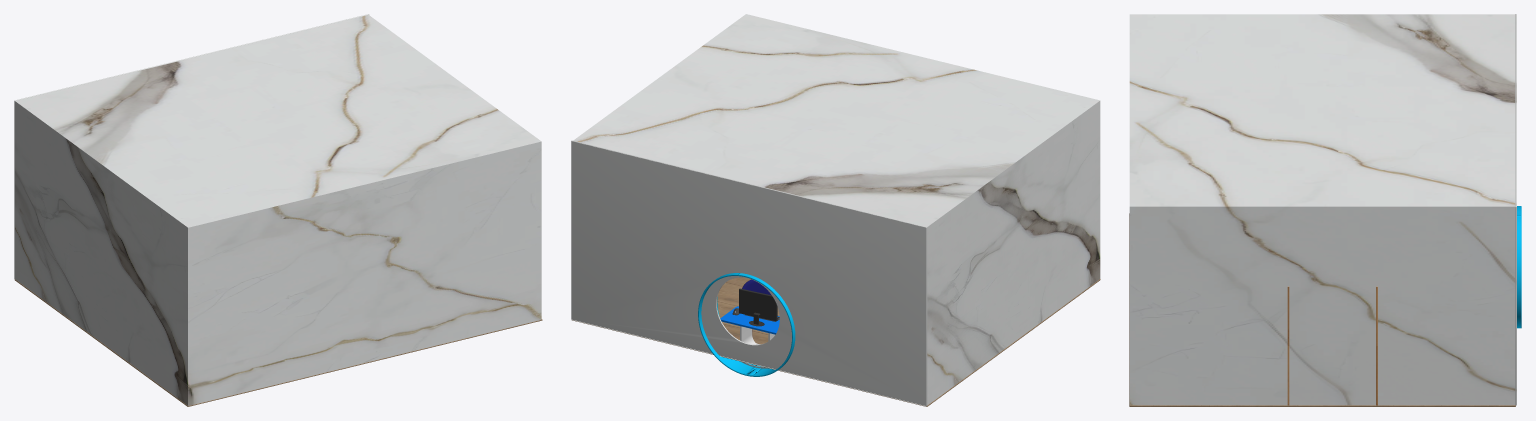
The model's file is room-space-final.glb.
The picture shows the model from 3 angles, left to right: view 1: azimuth 30°, elevation 25°; view 2: azimuth 150°, elevation 25°; view 3: azimuth 270°, elevation 25°; orthographic projection. The views are drawn at different scales.
Visible parts, largest first — view 1: Cube.002, Cube.001, Boolean; view 2: Cube.002, Boolean, Cube.001, Cylinder.001, Cube.004, Rectangle; view 3: Cube.002, Cube.001, Boolean, Cylinder.001, wooden_display_shelves_01.
Boxes of the visible parts, <box> form: Cube.002: <box>15,15,541,405</box>; Cube.001: <box>14,279,542,406</box>; Boolean: <box>14,14,369,278</box>; Cube.002: <box>572,14,1100,406</box>; Boolean: <box>571,140,927,405</box>; Cube.001: <box>572,277,1100,406</box>; Cylinder.001: <box>698,273,795,376</box>; Cube.004: <box>739,288,777,321</box>; Rectangle: <box>720,306,779,334</box>; Cube.002: <box>1129,14,1516,405</box>; Cube.001: <box>1129,213,1515,406</box>; Boolean: <box>1515,14,1516,405</box>; Cylinder.001: <box>1517,206,1521,328</box>; wooden_display_shelves_01: <box>1287,286,1377,405</box>.
Bounding box in the file's own units: 58.87 × 30.13 × 50.54.
37 materials, 8 textured.
